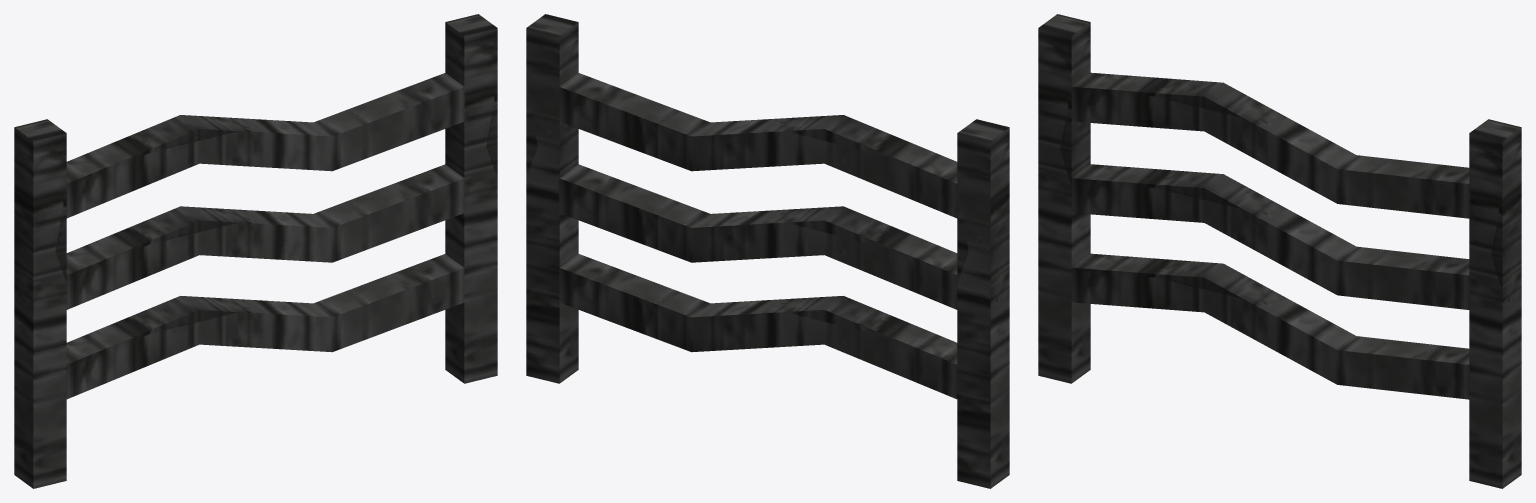
Rendered from Fence.fbx.
The picture shows the model from 3 angles, left to right: view 1: azimuth 30°, elevation 25°; view 2: azimuth 150°, elevation 25°; view 3: azimuth 330°, elevation 25°; orthographic projection.
Visible parts, largest first — view 1: pCube3, pCube2, pCube4, pCube1, pCube5; view 2: pCube3, pCube2, pCube4, pCube1, pCube5; view 3: pCube2, pCube3, pCube4, pCube5, pCube1.
Part boxes in pixels (bbox=[...]): pCube3: bbox=[66, 164, 465, 309]; pCube2: bbox=[66, 73, 465, 218]; pCube4: bbox=[66, 254, 464, 399]; pCube1: bbox=[14, 119, 66, 488]; pCube5: bbox=[445, 14, 497, 383]; pCube3: bbox=[558, 164, 957, 309]; pCube2: bbox=[558, 73, 957, 218]; pCube4: bbox=[558, 254, 957, 399]; pCube1: bbox=[957, 119, 1009, 488]; pCube5: bbox=[526, 14, 578, 383]; pCube2: bbox=[1071, 72, 1470, 218]; pCube3: bbox=[1071, 164, 1470, 310]; pCube4: bbox=[1071, 253, 1470, 399]; pCube5: bbox=[1469, 119, 1521, 488]; pCube1: bbox=[1038, 14, 1090, 383].
Bounding box in the file's own units: 13.97 × 10 × 1.
1 material, 1 textured.
